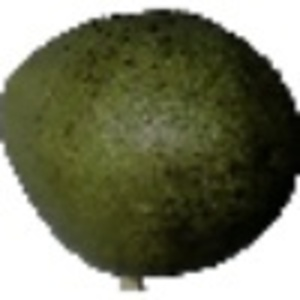abacate: (2, 2, 299, 278)
